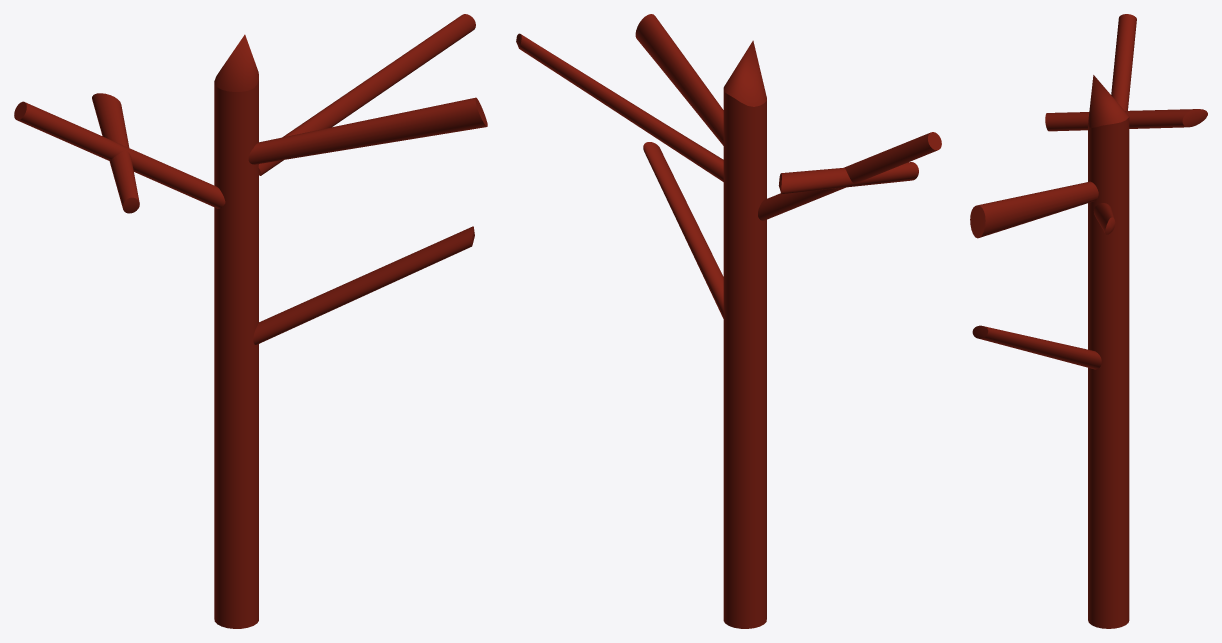
The model's file is CandyCaneTree.fbx.
3 views of the same model, side by side, from view 1: azimuth 30°, elevation 25°; view 2: azimuth 150°, elevation 25°; view 3: azimuth 270°, elevation 25° (orthographic). The views are drawn at different scales.
Parts seen in each view (by area): view 1: pCylinder1, pCylinder3, pCylinder4, pCylinder5, pCylinder2, pCylinder6; view 2: pCylinder1, pCylinder2, pCylinder3, pCylinder5, pCylinder4, pCylinder6; view 3: pCylinder1, pCylinder3, pCylinder6, pCylinder4, pCylinder5, pCylinder2.
Boxes of the visible parts, <box> form: pCylinder1: <box>214,34,258,628</box>; pCylinder3: <box>248,97,487,164</box>; pCylinder4: <box>253,226,474,344</box>; pCylinder5: <box>14,101,225,208</box>; pCylinder2: <box>258,14,475,175</box>; pCylinder6: <box>92,93,139,213</box>; pCylinder1: <box>723,40,766,628</box>; pCylinder2: <box>516,33,723,181</box>; pCylinder3: <box>635,14,723,145</box>; pCylinder5: <box>758,132,941,220</box>; pCylinder4: <box>643,142,723,318</box>; pCylinder6: <box>778,162,918,194</box>; pCylinder1: <box>1088,75,1129,628</box>; pCylinder3: <box>970,181,1098,238</box>; pCylinder6: <box>1045,109,1207,131</box>; pCylinder4: <box>972,325,1101,369</box>; pCylinder5: <box>1111,14,1136,110</box>; pCylinder2: <box>1093,203,1115,234</box>.
Size of the model in its own units: 34.92 by 44.06 by 17.4.
